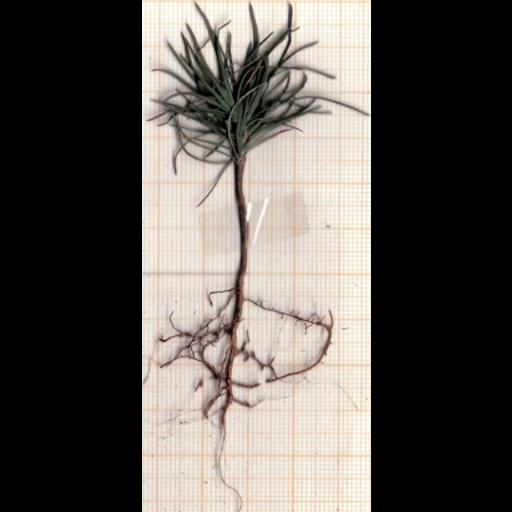flowerCedr: (153, 4, 364, 166)
rootCedr: (159, 287, 332, 468)
stemCedr: (233, 157, 248, 299)
